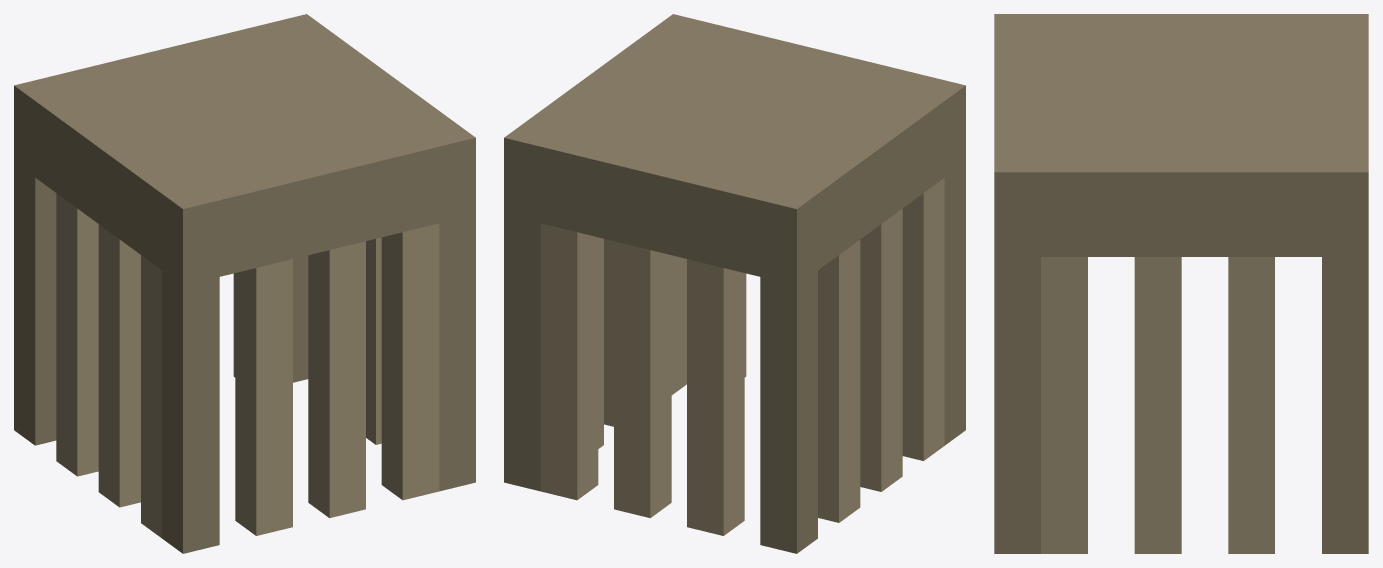
The model's file is jaula_vacia_03.glb.
3 renders of one model, left to right at view 1: azimuth 30°, elevation 25°; view 2: azimuth 150°, elevation 25°; view 3: azimuth 270°, elevation 25°, orthographic. The views are drawn at different scales.
Visible parts, largest first — view 1: jaula_vacia_03; view 2: jaula_vacia_03; view 3: jaula_vacia_03.
Boxes of the visible parts, x1,y1,x2,y2 form: jaula_vacia_03: (14,14,475,553); jaula_vacia_03: (504,14,965,553); jaula_vacia_03: (994,14,1368,553).
Bounding box in the file's own units: 0.8 × 0.9 × 0.8.
